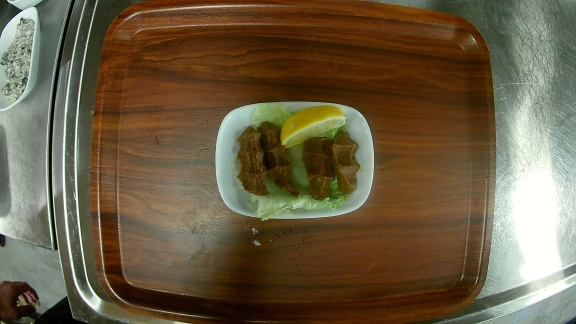cigkofte: (216, 103, 375, 219)
